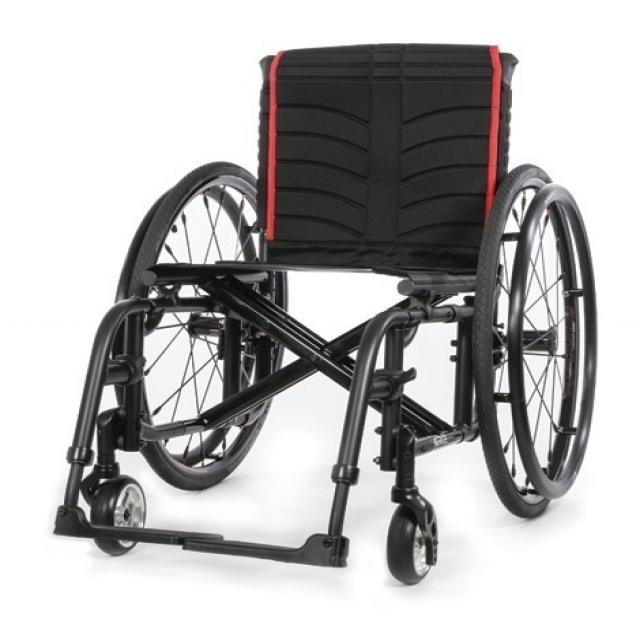wheelchair: (42, 37, 607, 599)
